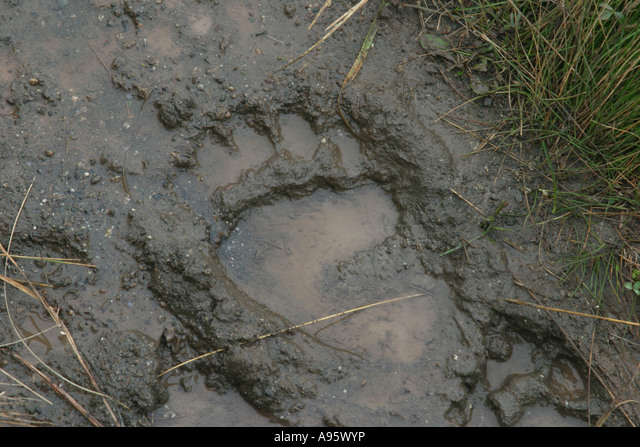bear: (162, 54, 490, 400)
